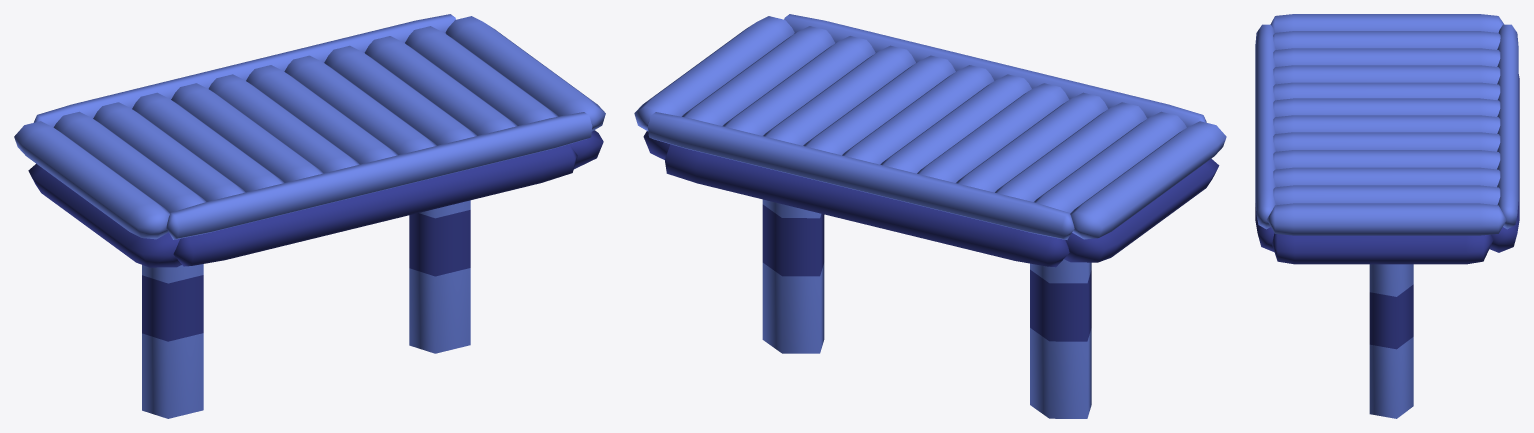
The model's file is plataformaDefault1.fbx.
The picture shows the model from 3 angles, left to right: view 1: azimuth 30°, elevation 25°; view 2: azimuth 150°, elevation 25°; view 3: azimuth 270°, elevation 25°; orthographic projection. The views are drawn at different scales.
Parts seen in each view (by area): view 1: polySurface1543; view 2: polySurface1543; view 3: polySurface1543.
Boxes of the visible parts, x1=… form: polySurface1543: x1=14, y1=14, x2=605, y2=418; polySurface1543: x1=634, y1=14, x2=1226, y2=418; polySurface1543: x1=1255, y1=14, x2=1519, y2=418.
Size of the model in its own units: 1343 by 706 by 721.
